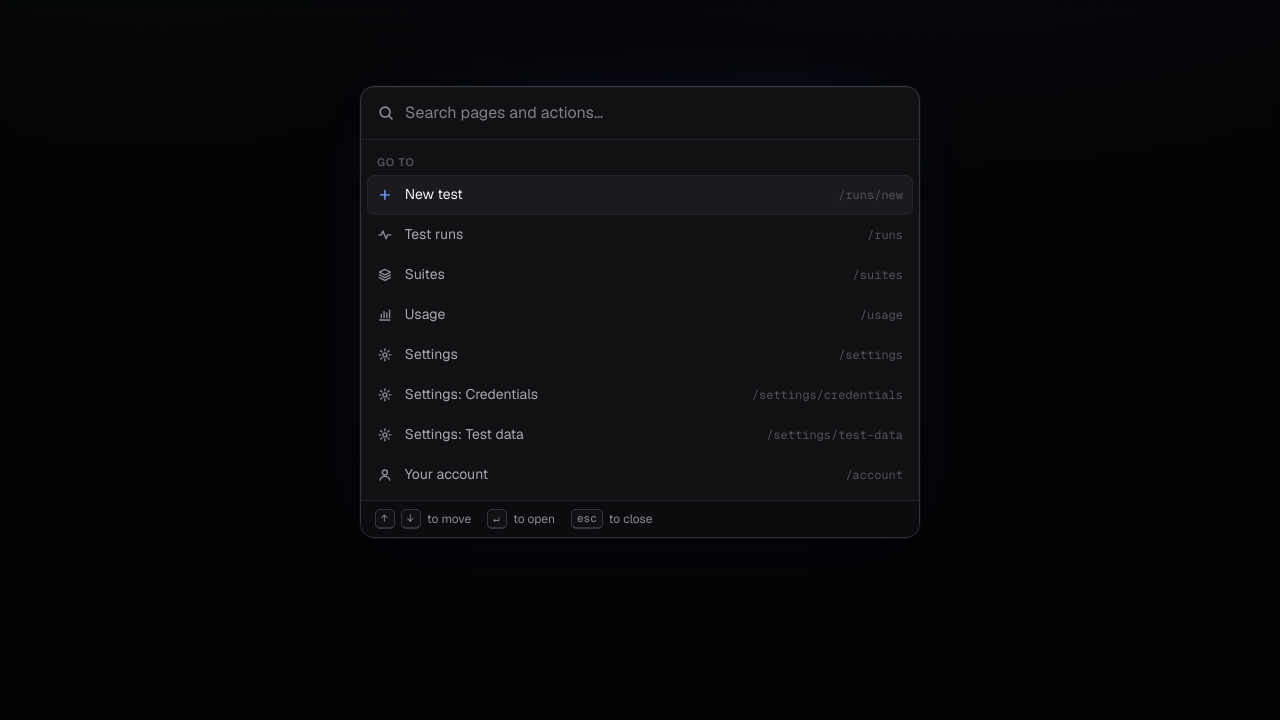
Scenario: CommandPalette › offers the administrators' settings only to administrators
In the dropdown: (654, 113) [405,87,903,139], type "users"
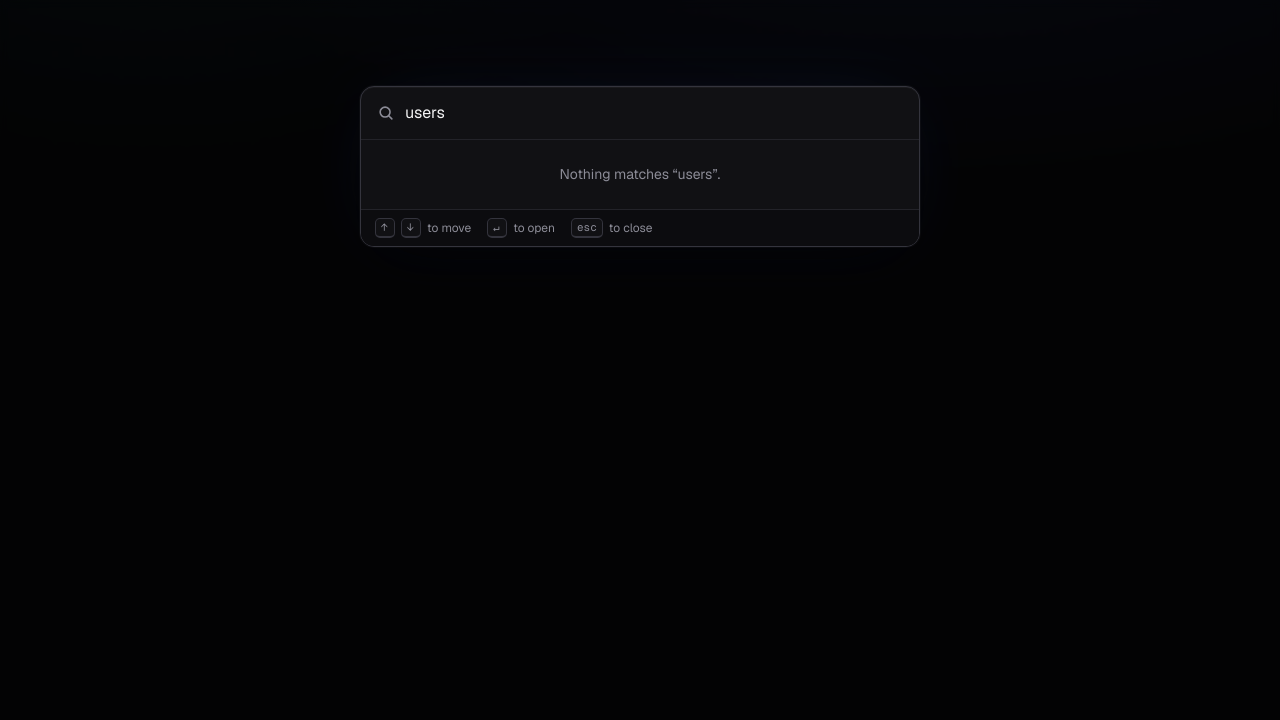
Check: the option is gone
Check: the text "Nothing matches “users”." is shown, box [560,165,720,183]
